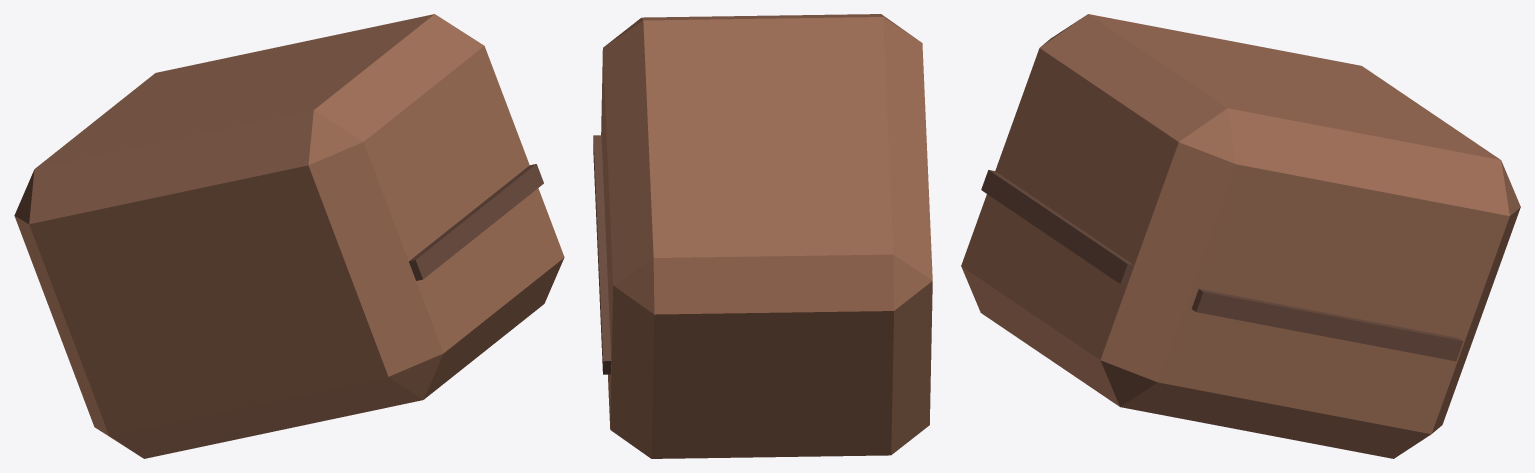
Rendered from fulgoran-ruin-tiny.glb.
The picture shows the model from 3 angles, left to right: view 1: azimuth 30°, elevation 25°; view 2: azimuth 150°, elevation 25°; view 3: azimuth 270°, elevation 25°; orthographic projection. The views are drawn at different scales.
Visible parts, largest first — view 1: body; view 2: body; view 3: body.
Part boxes in pixels (x1,y1,x2,y2): body: [14, 14, 564, 458]; body: [593, 14, 932, 458]; body: [961, 14, 1520, 458].
Bounding box in the file's own units: 0.5902 × 0.4969 × 0.6388.
